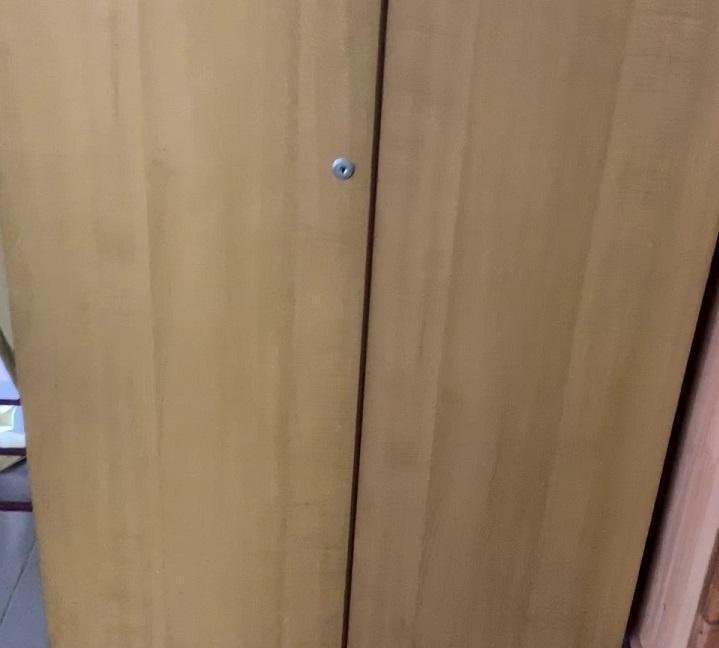Armario: (0, 2, 717, 643)
